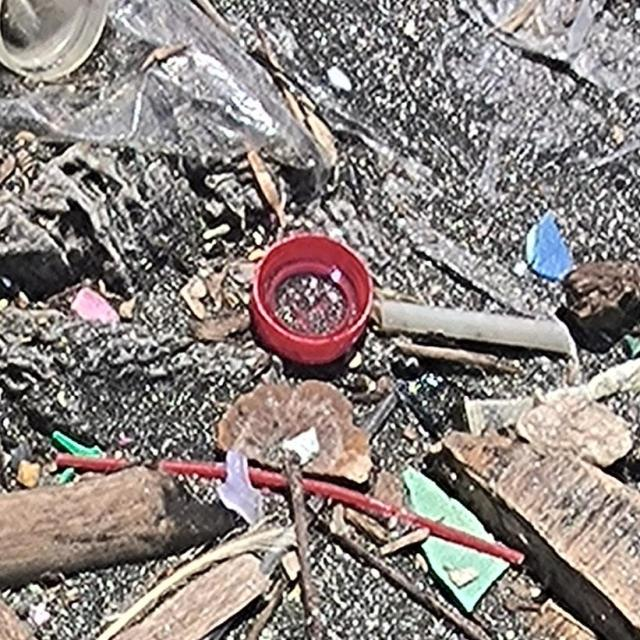plastic_waste: (56, 452, 527, 568), (250, 235, 378, 367)
